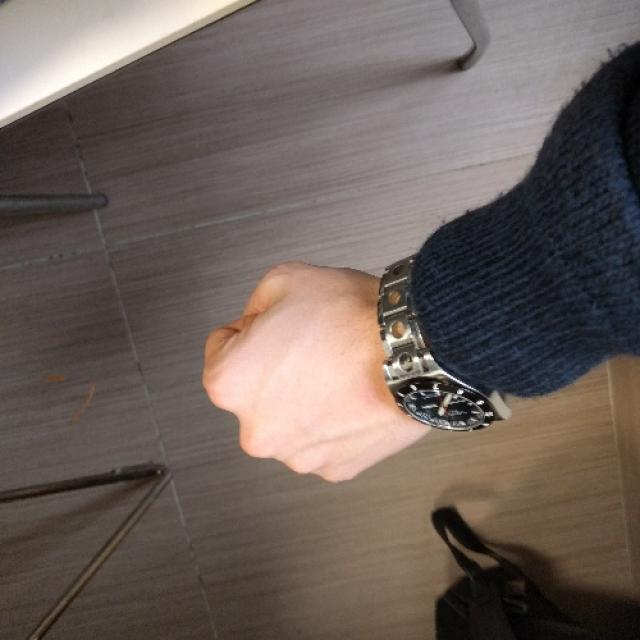fist: (204, 262, 411, 483)
